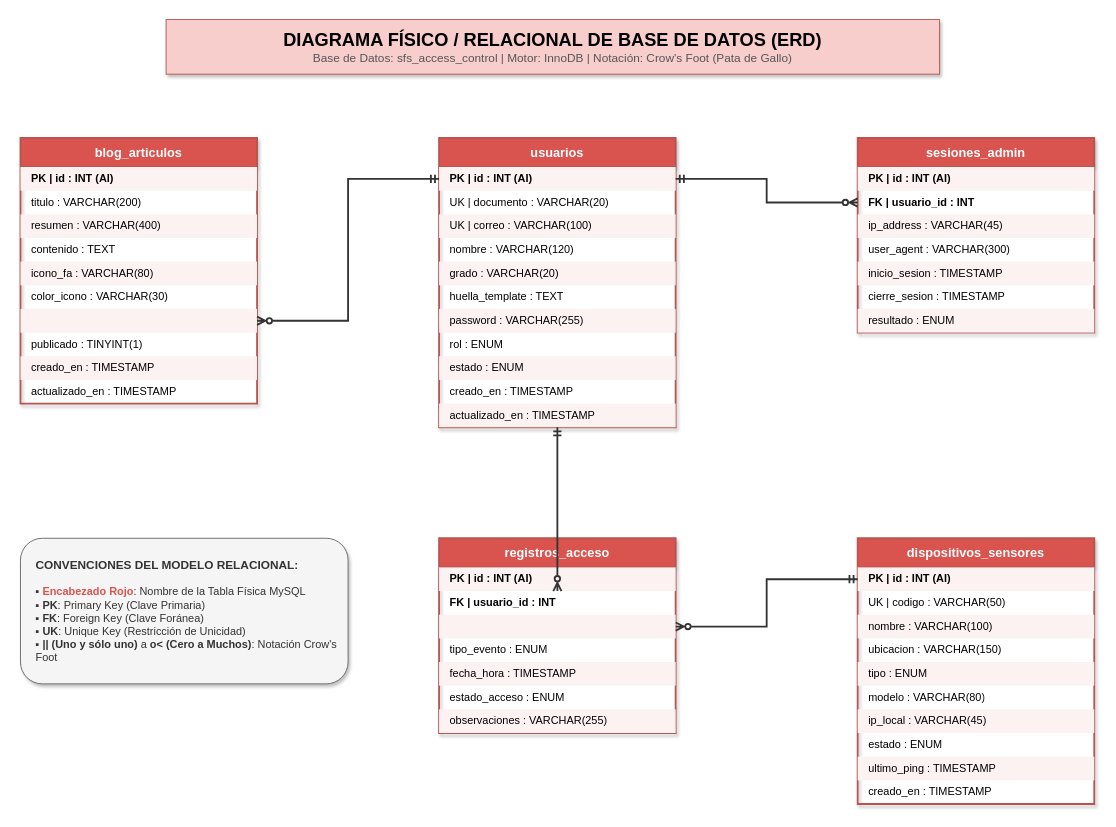
The diagram is 1116 pixels wide and 827 high, and some of its shapes have lost their labels. Each missing label, with the centre of its shape:
FK | autor_id : INT: the point at 138,320
FK | sensor_id : INT: the point at 557,626
